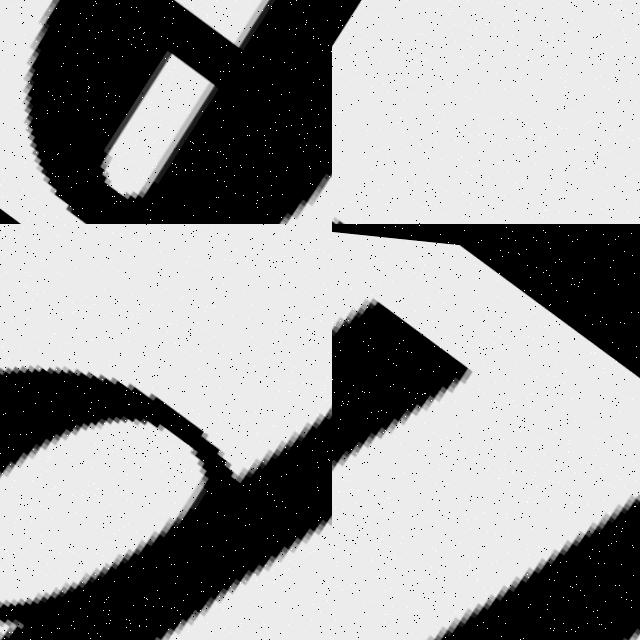E: (17, 0, 332, 224)
N: (332, 224, 640, 640)
P: (0, 358, 332, 640)
R: (332, 0, 640, 224)
